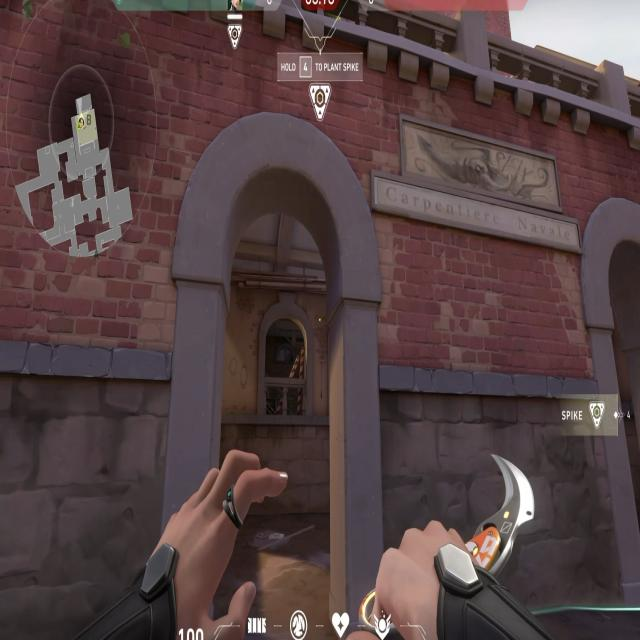B_Boathouse: (163, 85, 389, 640)
